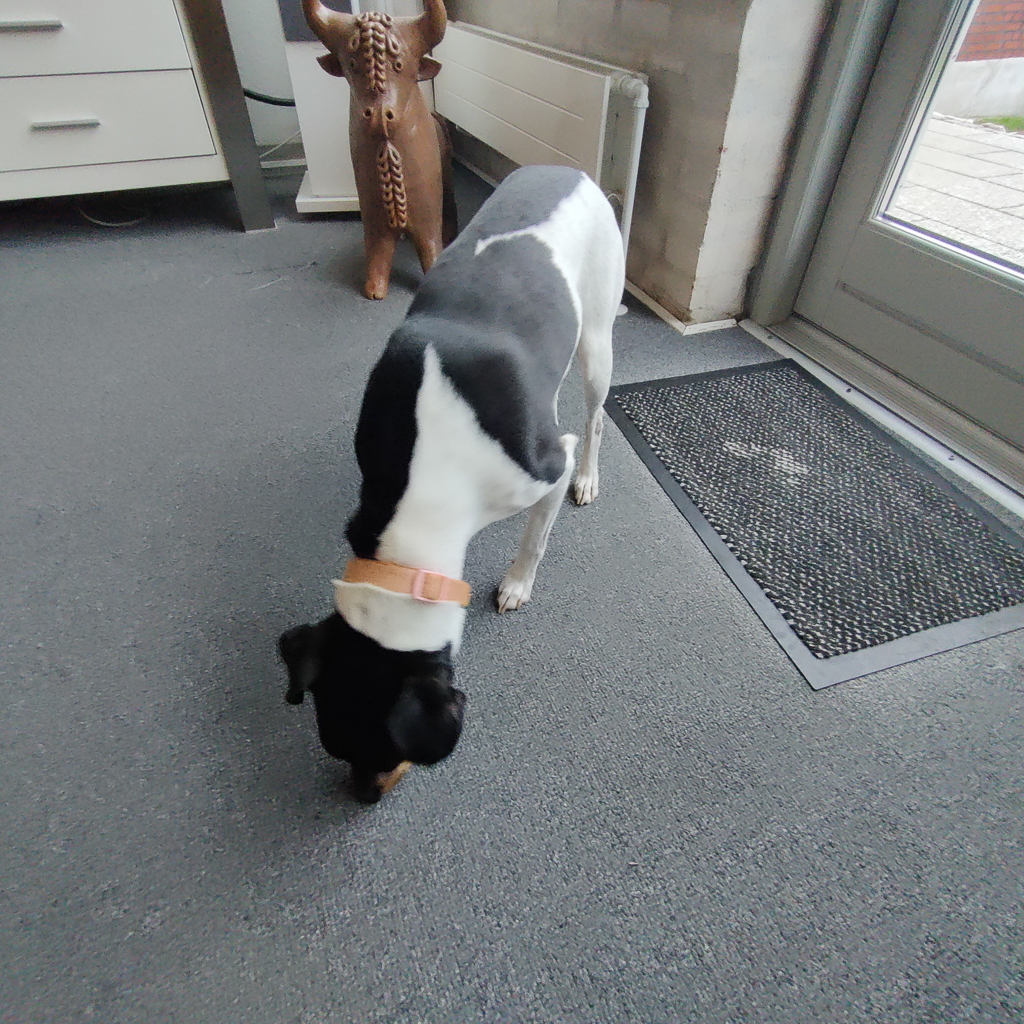Cattle: (288, 0, 512, 319)
Dog: (242, 137, 677, 840)
